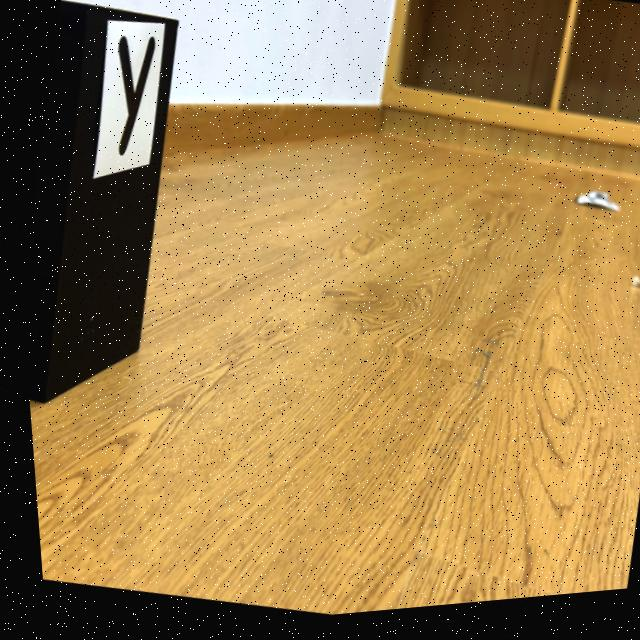Y: (115, 39, 154, 157)
